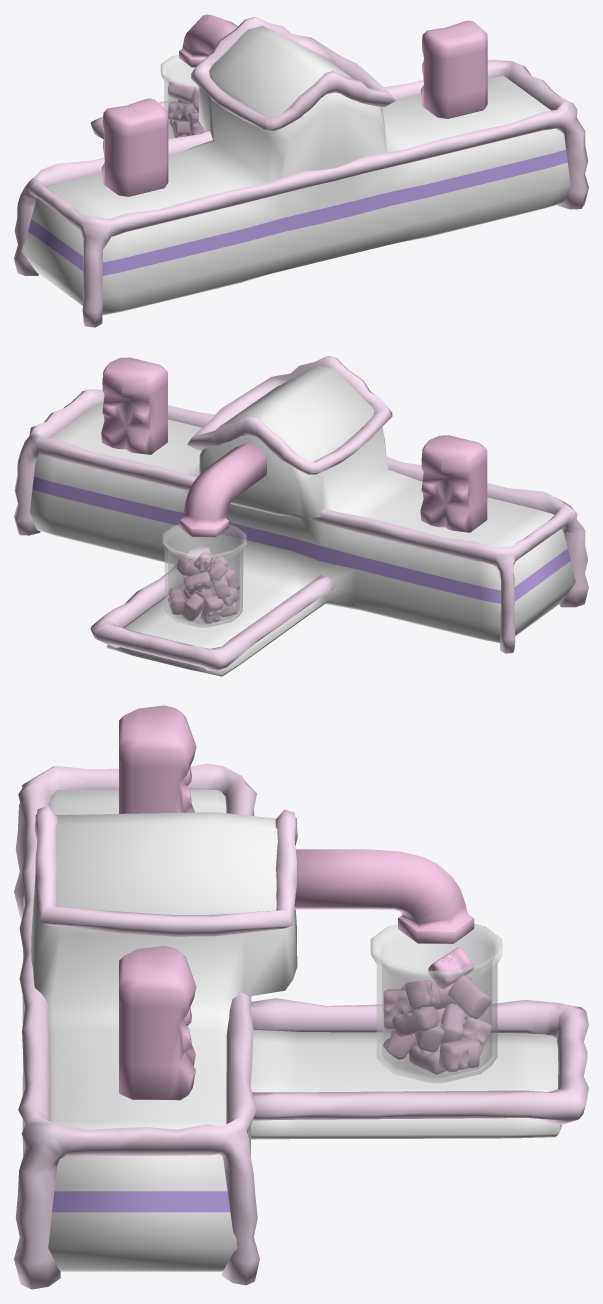
File: Tower_Support_Slow (2).fbx
The picture shows the model from 3 angles, top to bottom: view 1: azimuth 30°, elevation 25°; view 2: azimuth 150°, elevation 25°; view 3: azimuth 270°, elevation 25°; orthographic projection. The views are drawn at different scales.
Parts seen in each view (by area): view 1: Cube_001.001, Cube_057.001, Cube_058.001, Cylinder_005.002, Cylinder_005.003, FinishedMellowSmol.001; view 2: Cube_001.001, Cube_057.001, Cube_058.001, Cylinder_005.002, Cylinder_005.003, FinishedMellowSmol.001; view 3: Cube_001.001, Cube_057.001, Cube_058.001, Cylinder_005.002, Cylinder_005.003, FinishedMellowSmol.001.
Part boxes in pixels (x1=…): Cube_001.001: x1=22, y1=25, x2=570, y2=315; Cube_057.001: x1=14, y1=17, x2=588, y2=327; Cube_058.001: x1=101, y1=20, x2=487, y2=196; Cylinder_005.002: x1=160, y1=54, x2=205, y2=138; Cylinder_005.003: x1=179, y1=14, x2=238, y2=67; FinishedMellowSmol.001: x1=167, y1=81, x2=205, y2=137; Cube_001.001: x1=30, y1=365, x2=575, y2=676; Cube_057.001: x1=14, y1=356, x2=588, y2=671; Cube_058.001: x1=101, y1=357, x2=487, y2=532; Cylinder_005.002: x1=161, y1=524, x2=246, y2=627; Cylinder_005.003: x1=179, y1=441, x2=267, y2=537; FinishedMellowSmol.001: x1=168, y1=552, x2=239, y2=623; Cube_001.001: x1=22, y1=790, x2=562, y2=1271; Cube_057.001: x1=14, y1=763, x2=588, y2=1289; Cube_058.001: x1=119, y1=705, x2=196, y2=1100; Cylinder_005.002: x1=370, y1=924, x2=502, y2=1083; Cylinder_005.003: x1=294, y1=849, x2=474, y2=943; FinishedMellowSmol.001: x1=383, y1=947, x2=492, y2=1074.
Bounding box in the file's own units: 276 × 98.79 × 176.
